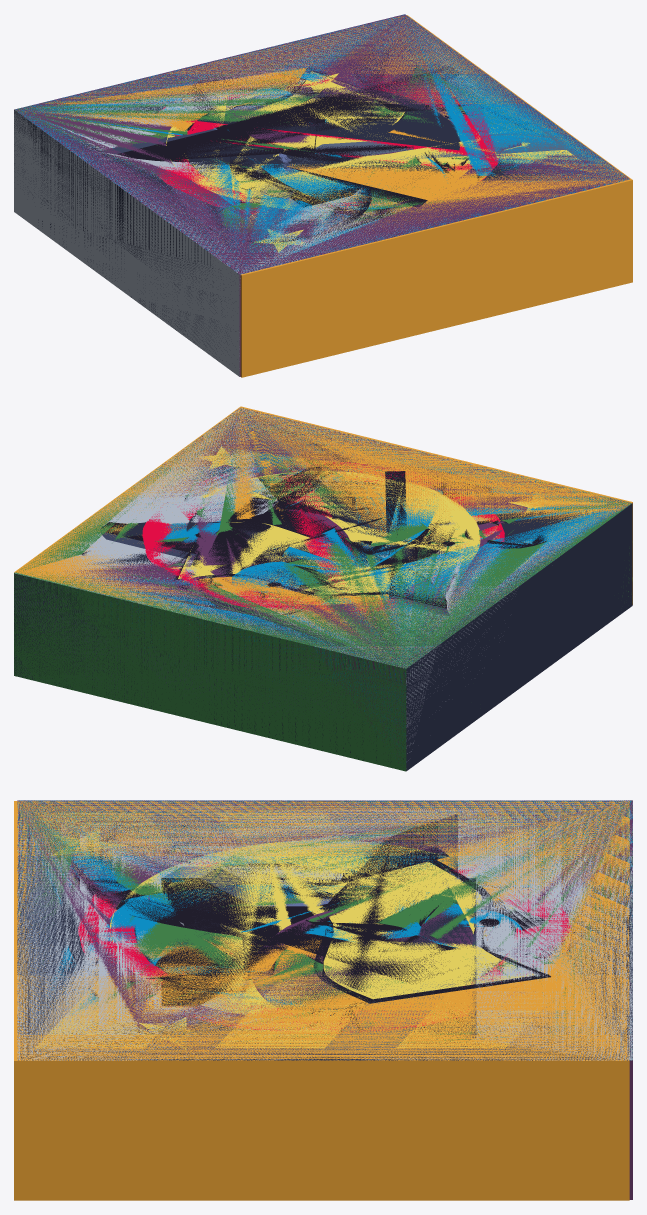
The model's file is zones.glb.
The picture shows the model from 3 angles, top to bottom: view 1: azimuth 30°, elevation 25°; view 2: azimuth 150°, elevation 25°; view 3: azimuth 270°, elevation 25°; orthographic projection. The views are drawn at different scales.
Parts seen in each view (by area): view 1: 2Checkpoint, 4LowGrav, 5HighGrav, 6Slip, 8EngineOff, 7Grip, 1Boost; view 2: 7Grip, 8EngineOff, 2Checkpoint, 4LowGrav, 6Slip, 5HighGrav, 1Boost; view 3: 2Checkpoint, 5HighGrav, 4LowGrav, 7Grip, 1Boost, 8EngineOff, 6Slip.
Part boxes in pixels (left/top/right/bottom): 2Checkpoint: left=19, top=15, right=632, bottom=377; 4LowGrav: left=14, top=14, right=629, bottom=376; 5HighGrav: left=14, top=18, right=499, bottom=376; 6Slip: left=16, top=14, right=628, bottom=273; 8EngineOff: left=14, top=63, right=594, bottom=360; 7Grip: left=15, top=23, right=537, bottom=252; 1Boost: left=37, top=34, right=605, bottom=285; 7Grip: left=14, top=414, right=632, bottom=771; 8EngineOff: left=14, top=408, right=632, bottom=770; 2Checkpoint: left=14, top=406, right=632, bottom=658; 4LowGrav: left=64, top=409, right=632, bottom=765; 6Slip: left=72, top=411, right=626, bottom=747; 5HighGrav: left=15, top=408, right=594, bottom=760; 1Boost: left=14, top=410, right=609, bottom=769; 2Checkpoint: left=14, top=801, right=629, bottom=1200; 5HighGrav: left=17, top=800, right=632, bottom=1060; 4LowGrav: left=17, top=800, right=632, bottom=1199; 7Grip: left=17, top=800, right=632, bottom=1048; 1Boost: left=17, top=800, right=632, bottom=1060; 8EngineOff: left=17, top=802, right=632, bottom=1060; 6Slip: left=18, top=800, right=632, bottom=1053.
Bounding box in the file's own units: 20.05 × 5 × 20.11.
